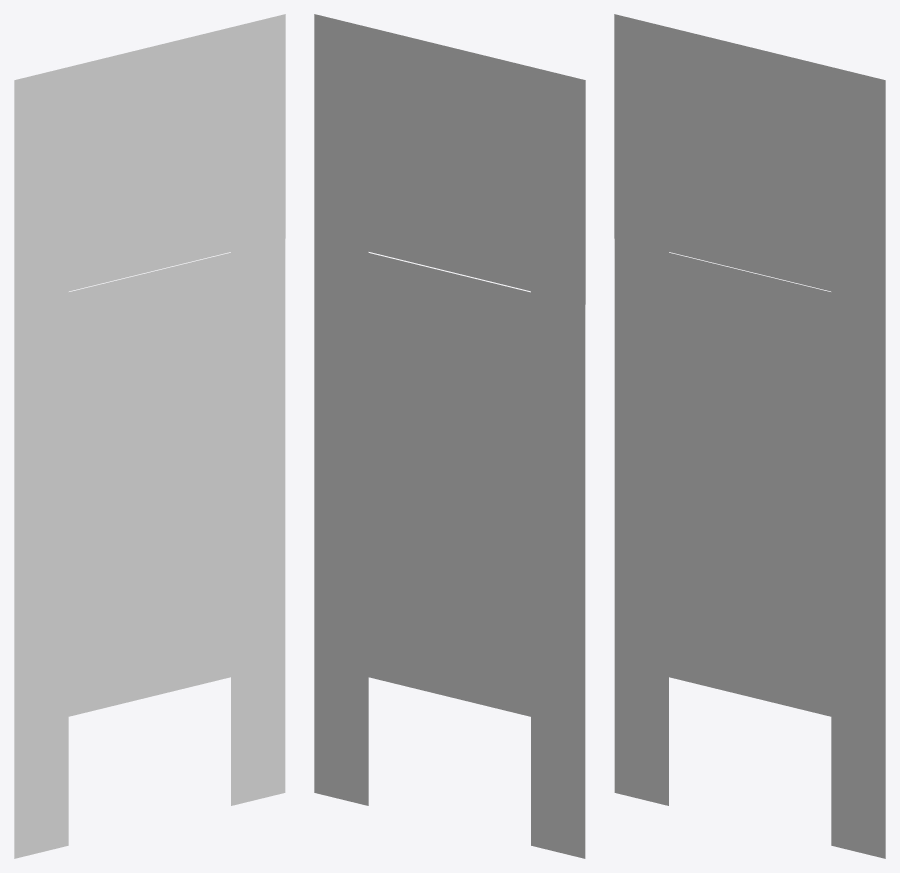
File: gasBoard.glb
The picture shows the model from 3 angles, left to right: view 1: azimuth 30°, elevation 25°; view 2: azimuth 150°, elevation 25°; view 3: azimuth 330°, elevation 25°; orthographic projection.
Parts seen in each view (by area): view 1: gas_Board; view 2: gas_Board; view 3: gas_Board.
Part boxes in pixels (<box>): gas_Board: <box>14,14,285,858</box>; gas_Board: <box>314,14,585,858</box>; gas_Board: <box>614,14,885,858</box>.
Size of the model in its own units: 2.54 by 6.95 by 0.00354.
Materials: 2 (2 with a texture image).
